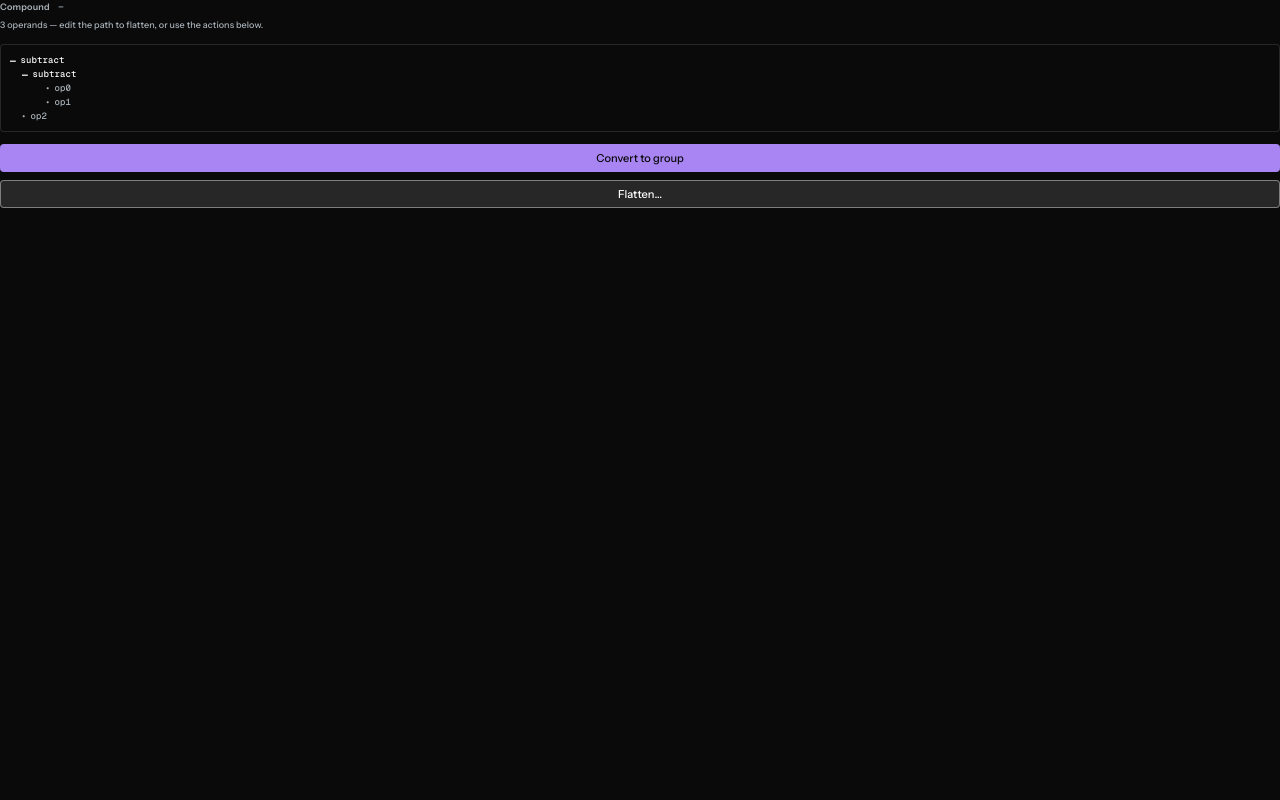
Test: Flatten opens a confirm dialog and only fires on confirmation
Later steps or results of the test are not shown.
Click the button "Flatten…" at (640, 194), box [0, 180, 1279, 208]
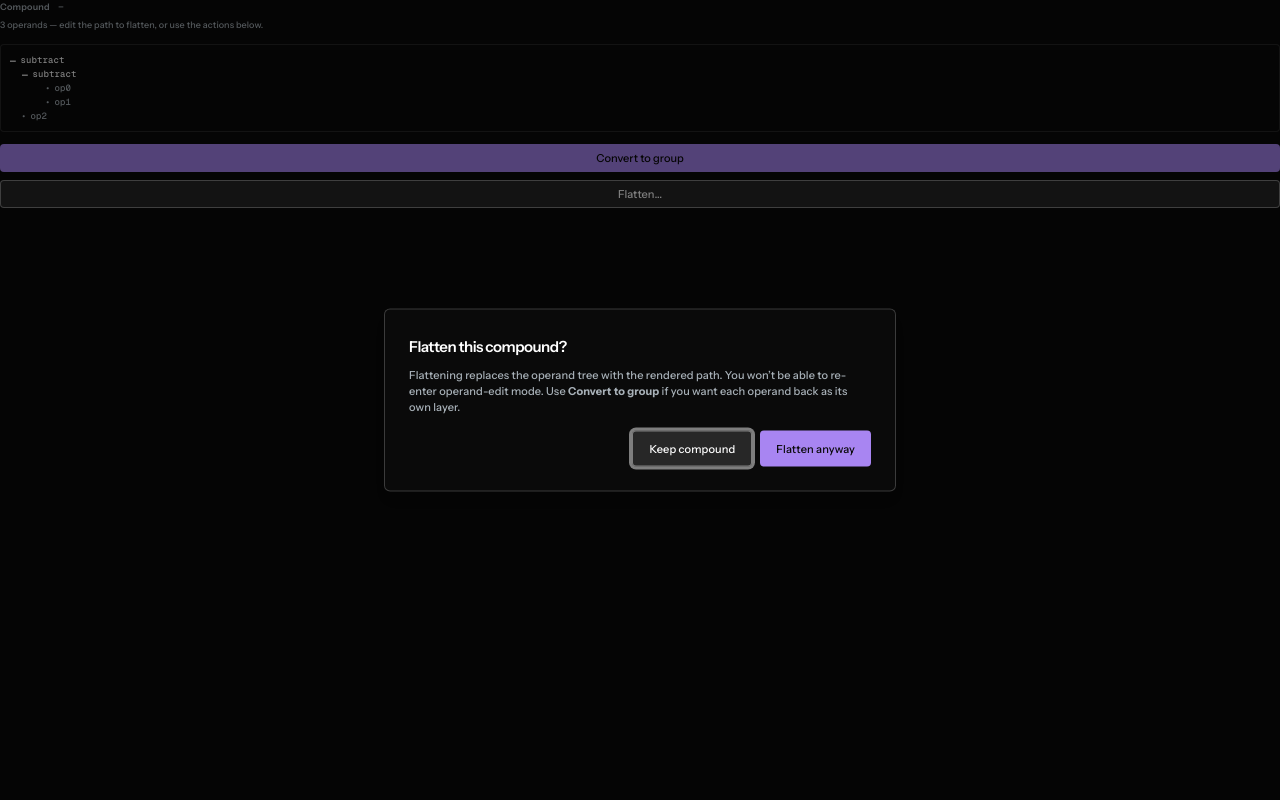
Expected: the heading "Flatten this compound?" is shown, [409, 336, 567, 356]
